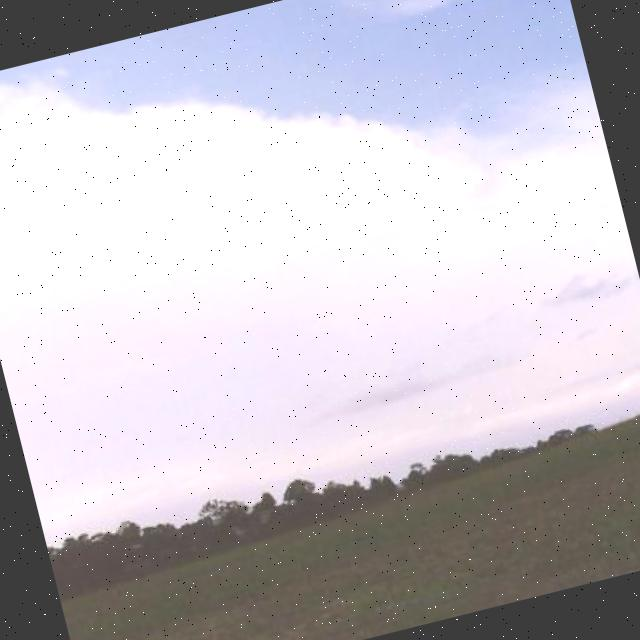St: (1, 1, 640, 519)
